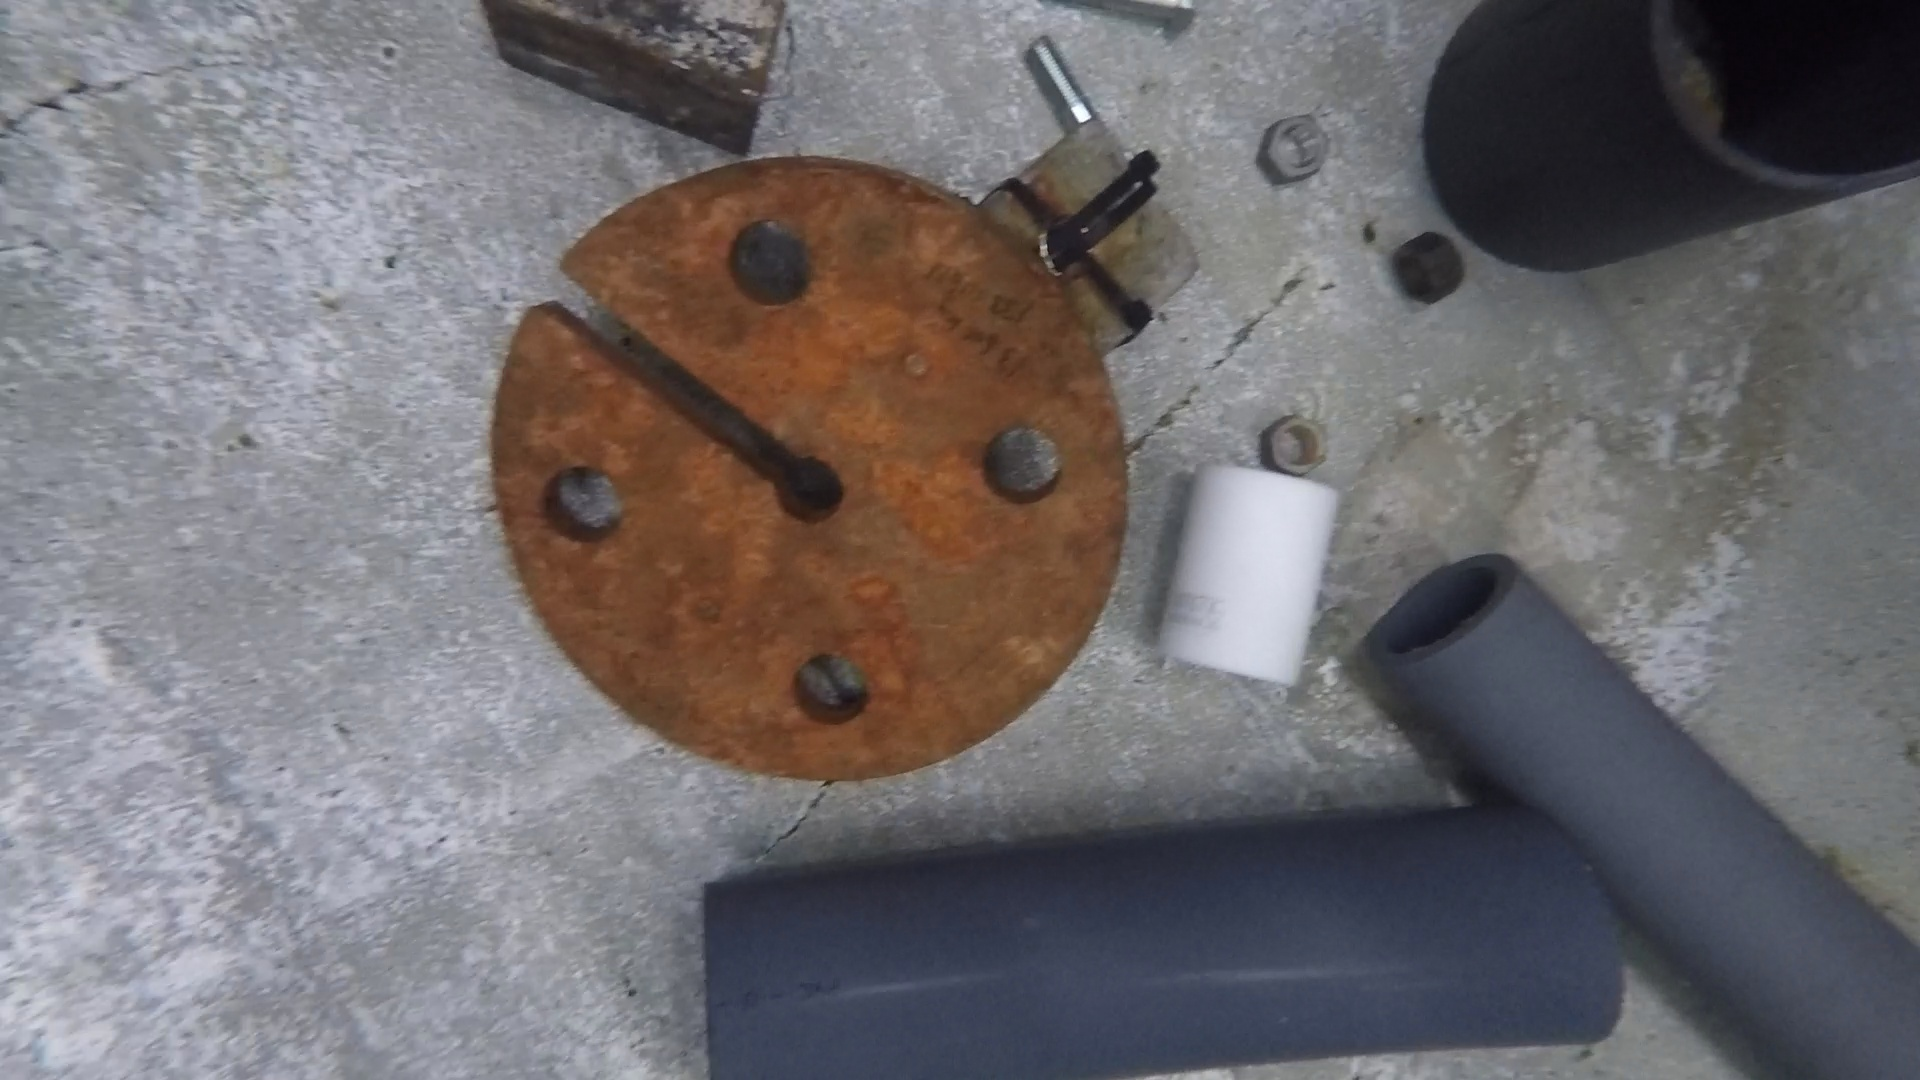bolt: (1027, 37, 1092, 127), (1043, 1, 1197, 30)
flange: (491, 157, 1130, 783)
led_block: (989, 123, 1197, 355), (483, 1, 783, 157)
nut: (1394, 232, 1465, 305), (1255, 115, 1331, 182), (1261, 415, 1328, 476)
pipe: (1366, 554, 1920, 1079), (704, 806, 1622, 1075), (1425, 1, 1919, 272), (1151, 462, 1342, 687)
